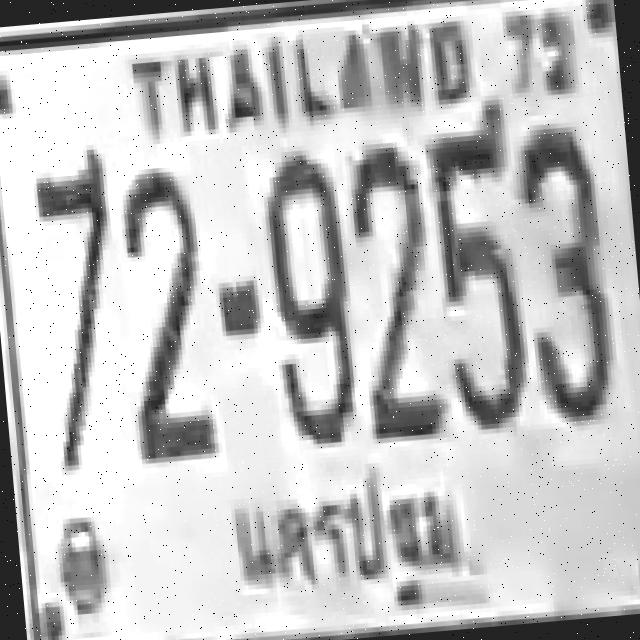0: (256, 148, 358, 442)
2: (113, 162, 215, 447), (344, 142, 438, 418), (116, 162, 212, 422)
3: (511, 120, 614, 419)
5: (425, 122, 528, 426), (424, 118, 522, 346)
7: (29, 144, 128, 462)
9: (256, 148, 358, 442)
NakhonPathom: (212, 455, 479, 625)
